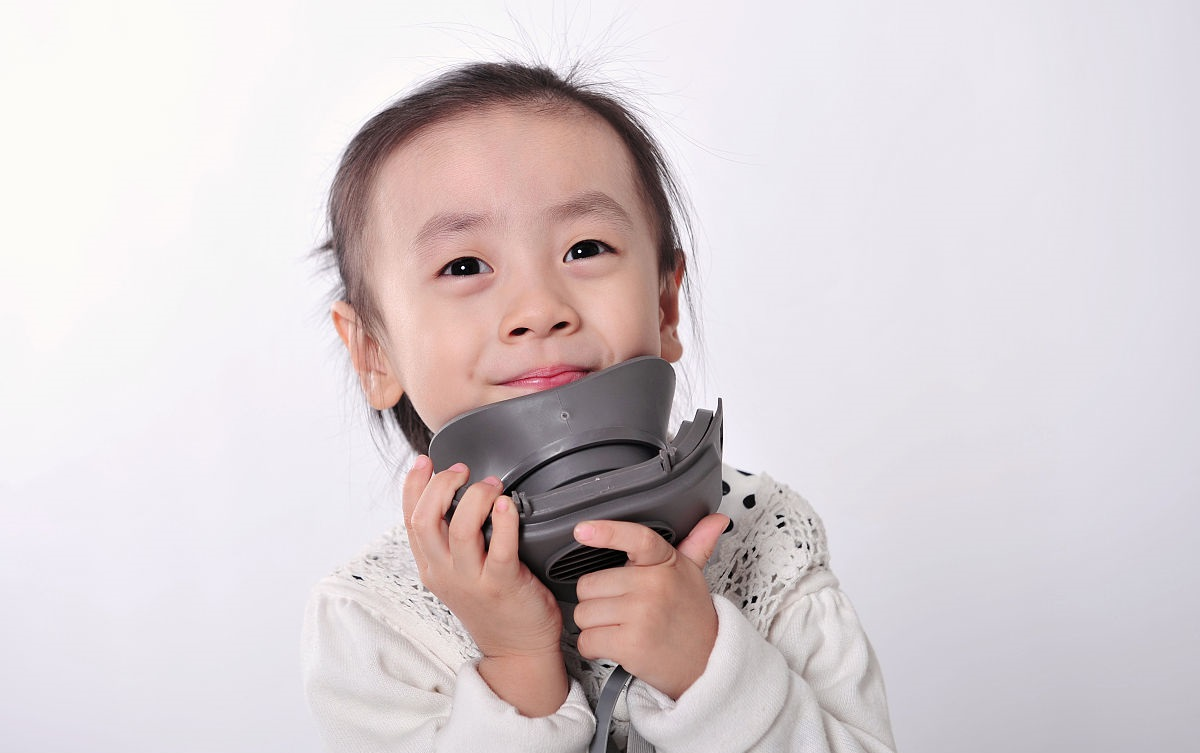face_mask: (391, 119, 662, 460)
